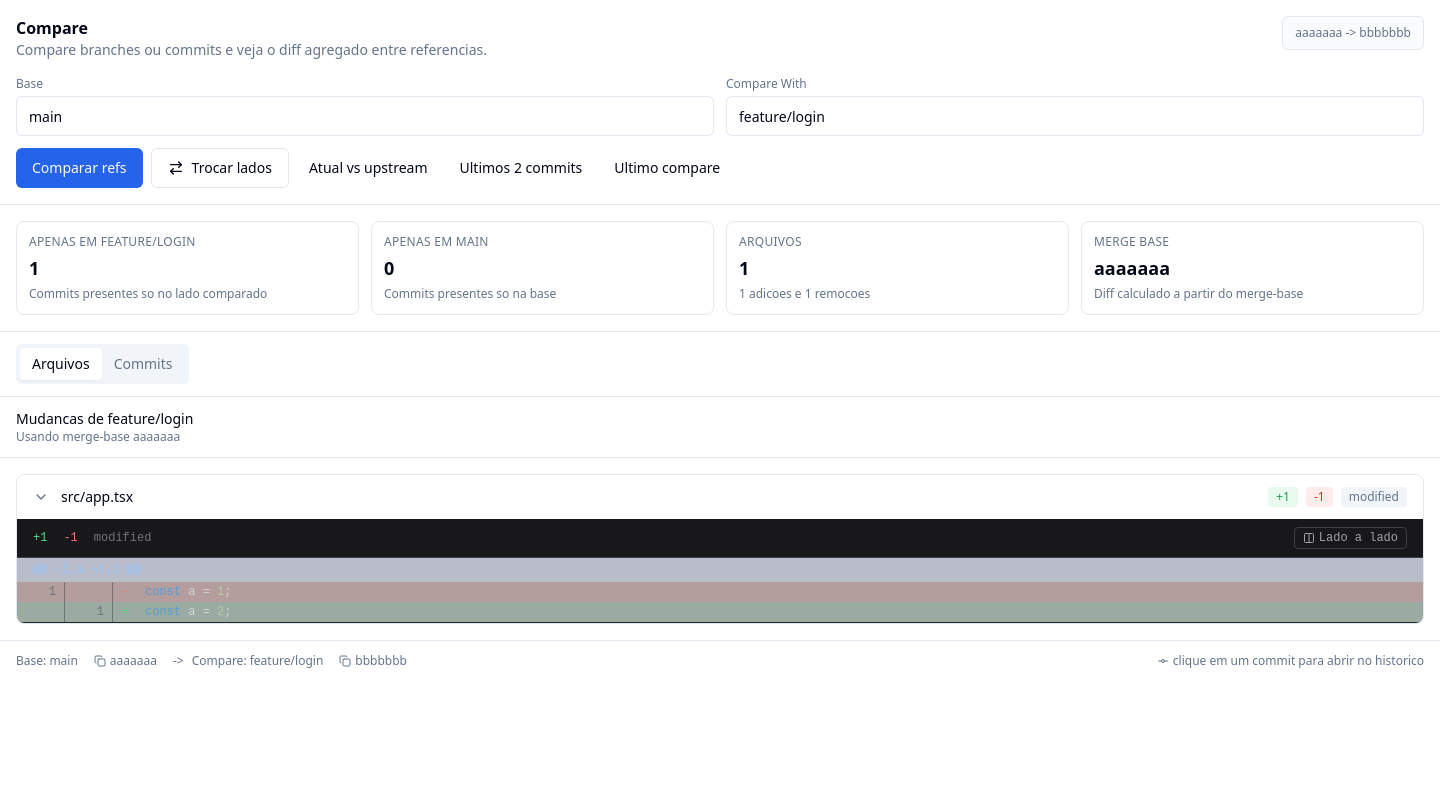
Test case: CompareView › troca as refs quando o usuario inverte os lados
Click the button "Trocar lados".
click(220, 168)  # box [151, 148, 289, 188]
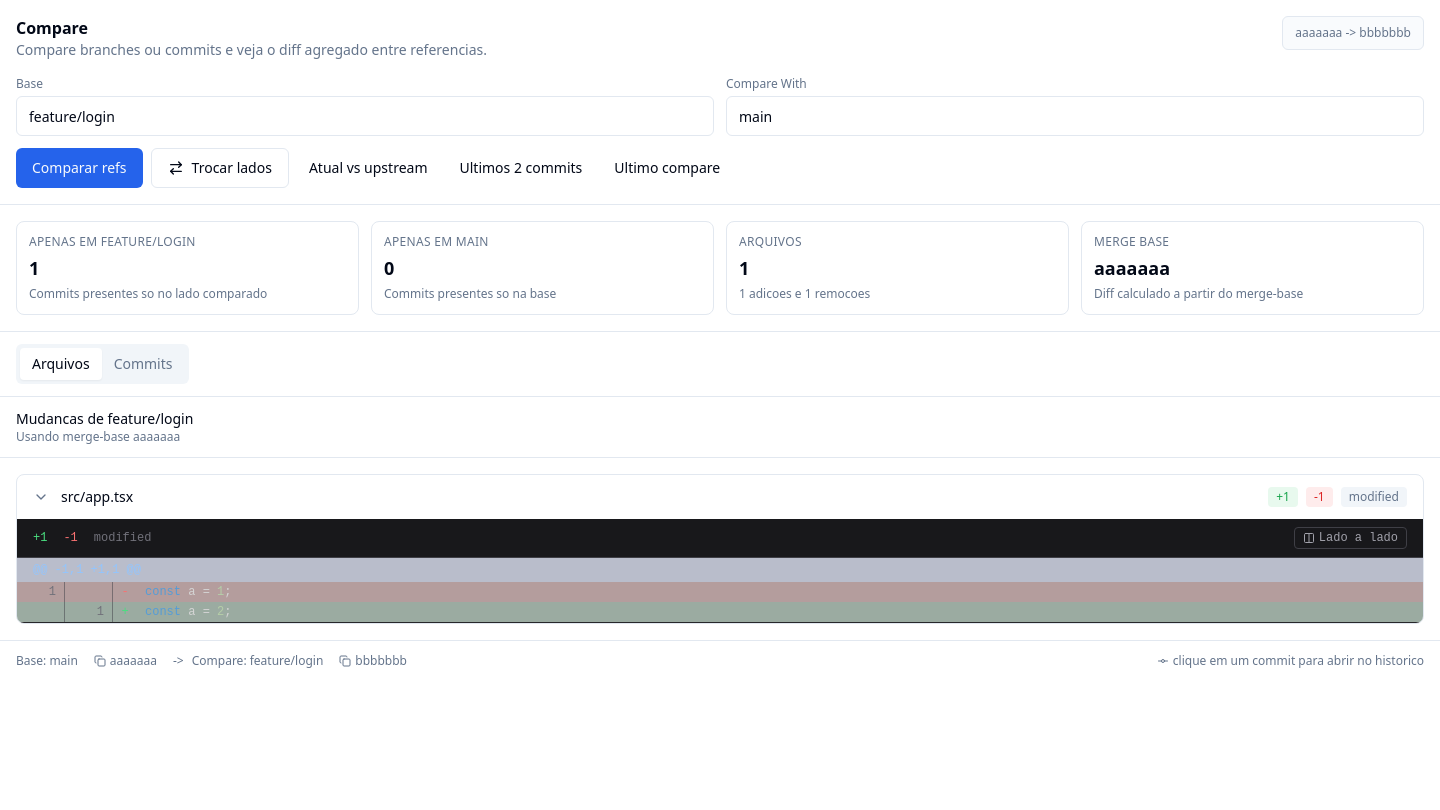
Expected: the 1st field showing "feature/login" is shown, [16, 96, 714, 136]
Expected: the field showing "main" below "Compare With" is shown, [726, 96, 1424, 136]
